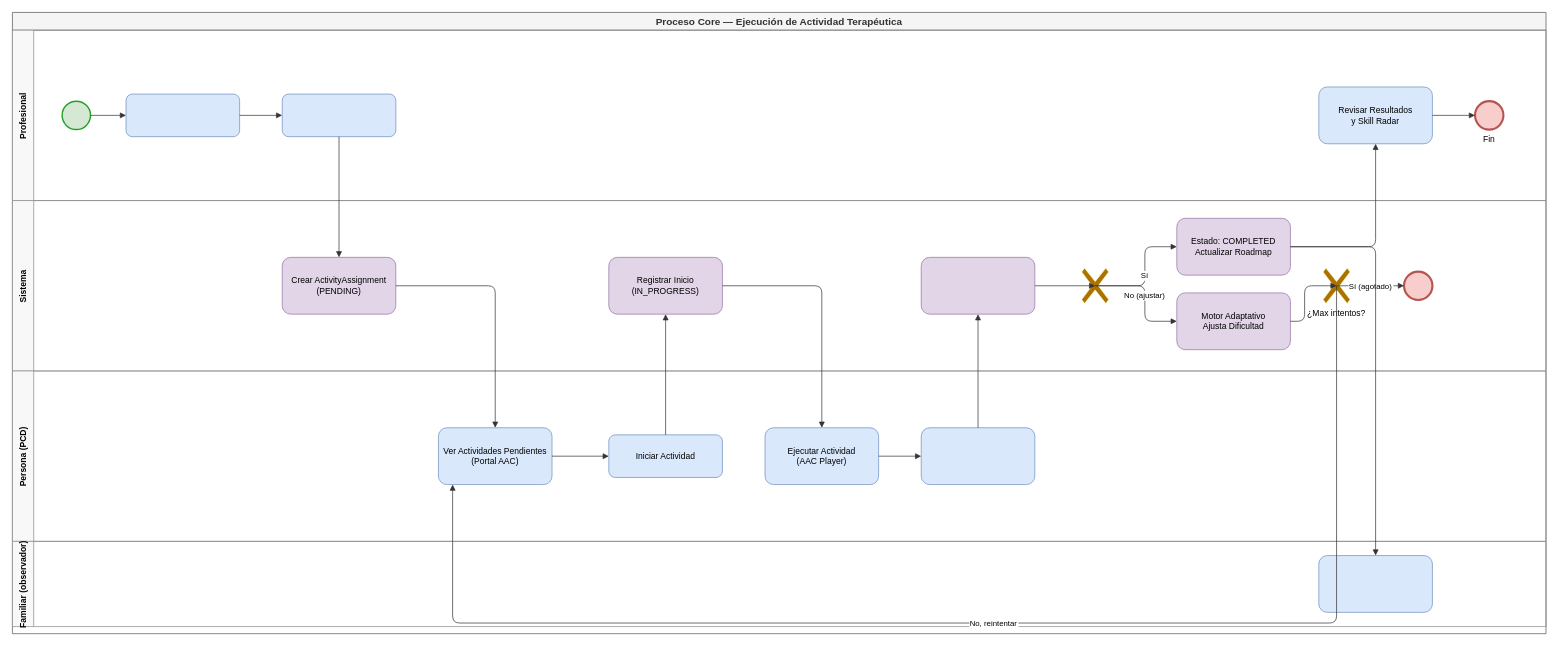
The diagram is 1558 pixels wide and 646 high, and some of its shapes have lost their labels. Each missing label, with the centre of its shape:
"Completar Actividad (enviar resultados)" goes at (x=978, y=456).
"Configurar y Enviar Asignación" goes at (x=339, y=115).
"Consultar Actividades y Reportes Aprobados" goes at (x=1375, y=583).
"Evaluar Respuesta (%, tiempo, soporte)" goes at (x=978, y=285).
"Inicio" goes at (x=76, y=115).
"Max intentos alcanzados" goes at (x=1418, y=285).
"Seleccionar / Crear Actividad" goes at (x=182, y=115).
"¿Umbral OK?" goes at (x=1095, y=285).
